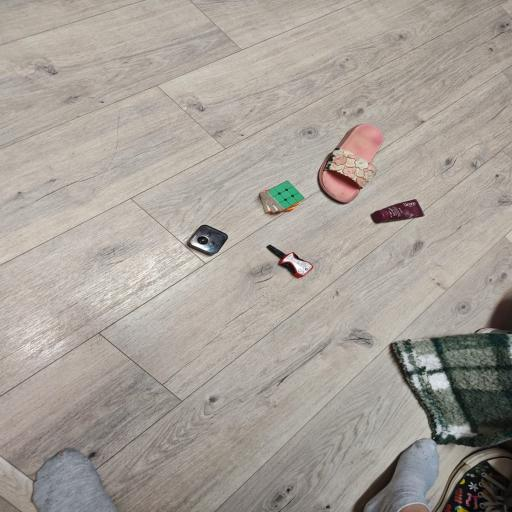Hand Cream: (369, 198, 426, 230)
Rubiks Cube: (258, 180, 304, 216)
Super Glue: (260, 241, 314, 278)
